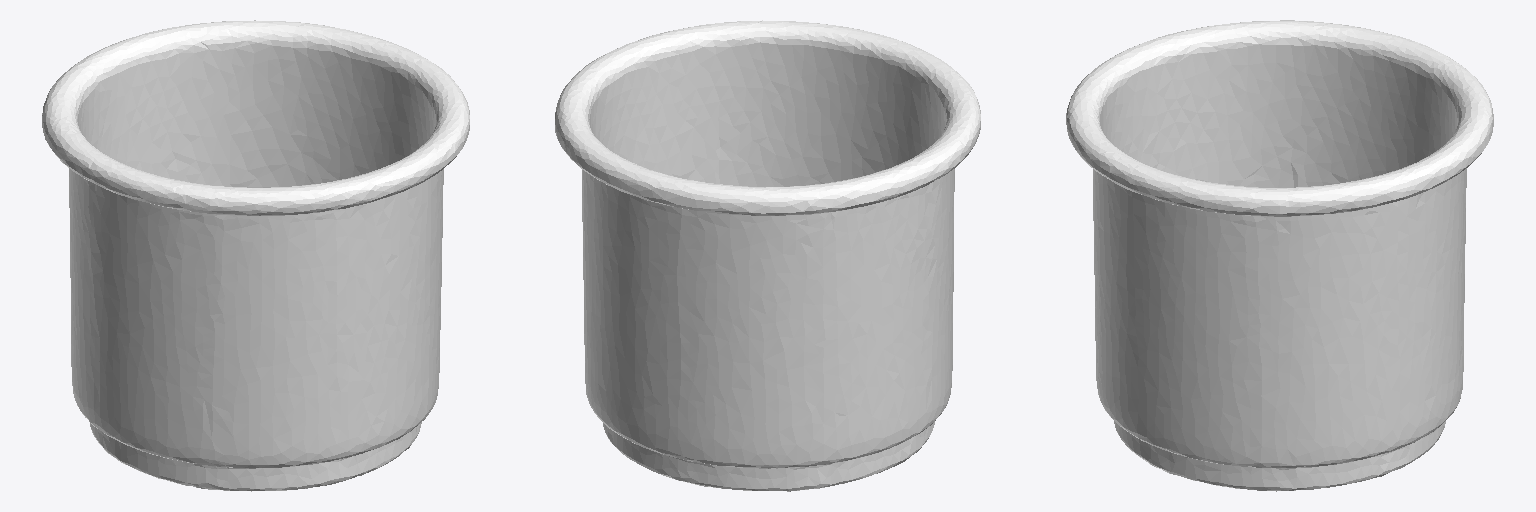
robot.urdf — 009_gelatin_box:
<robot name="009_gelatin_box">
	<link name="_name">
		<visual>
			<origin xyz="0.2267551794293906 0.07860203252540228 -0.13877966045089096" rpy="0 0 0" />
			<geometry>
				<mesh filename="009_gelatin_box/google_16k/textured.obj" scale="10 10 10" />
			</geometry>
			<material name="texture">
				<color rgba="1.0 1.0 1.0 1.0" />
			</material>
		</visual>
		<collision>
			<geometry>
				<mesh filename="009_gelatin_box/google_16k/textured_vhacd.obj" scale="10 10 10" />
			</geometry>
		<origin xyz="0.2267551794293906 0.07860203252540228 -0.13877966045089096" rpy="0 0 0" /></collision>
		<inertial>
			<mass value="1.0" />
			<inertia ixx="1.0" ixy="0.0" ixz="0.0" iyy="1.0" iyz="0.0" izz="1.0" />
		</inertial>
	</link>
</robot>

--- Render facts (derived) ---
3 views of the same robot in one strip: view 1: azimuth 30°, elevation 25°; view 2: azimuth 150°, elevation 25°; view 3: azimuth 270°, elevation 25° (orthographic).
Robot: 009_gelatin_box — 1 links, 0 joints (none); root link _name; default pose: every joint at zero.
Visible links, largest first — view 1: _name; view 2: _name; view 3: _name.
Link boxes in pixels (box(x1,y1,x2,y2)): _name: box(42, 20, 469, 491); _name: box(555, 20, 980, 491); _name: box(1066, 20, 1493, 491).
Bounding box of the posed robot: 0.9149 × 0.9162 × 0.7506 m (x, y, z).
1 mesh visuals loaded from 1 distinct referenced files (1 OBJ).